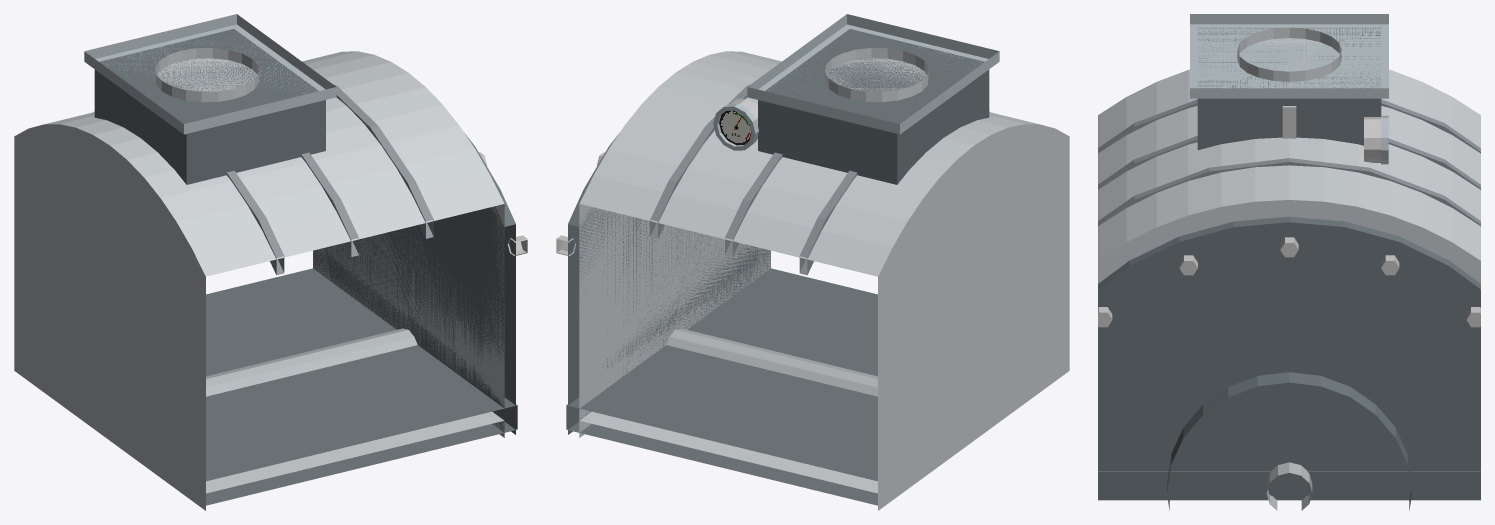
File: cell_51.obj
3 renders of one model, left to right at view 1: azimuth 30°, elevation 25°; view 2: azimuth 150°, elevation 25°; view 3: azimuth 270°, elevation 25°, orthographic.
Bounding box in the file's own units: 1 × 1 × 1.
